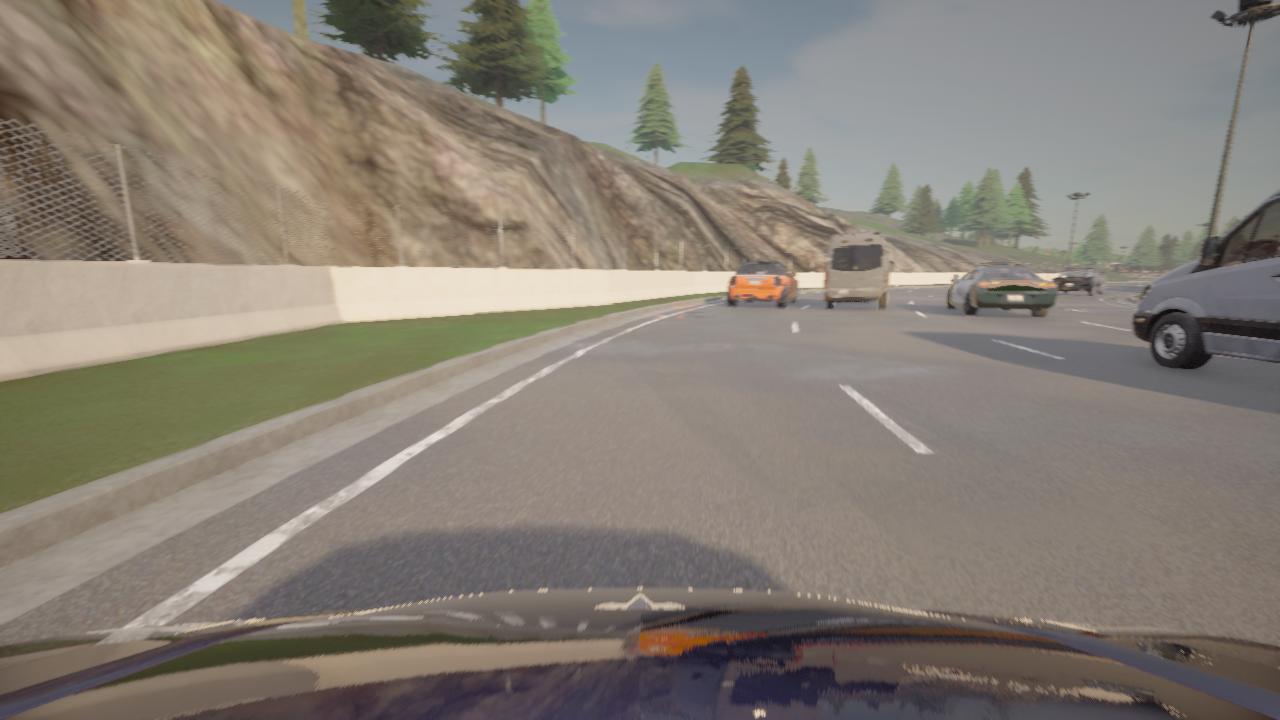cyclist: (0, 588, 1279, 719), (1131, 189, 1279, 369), (945, 263, 1057, 316), (823, 231, 894, 309), (727, 258, 797, 307), (1052, 267, 1105, 295)
